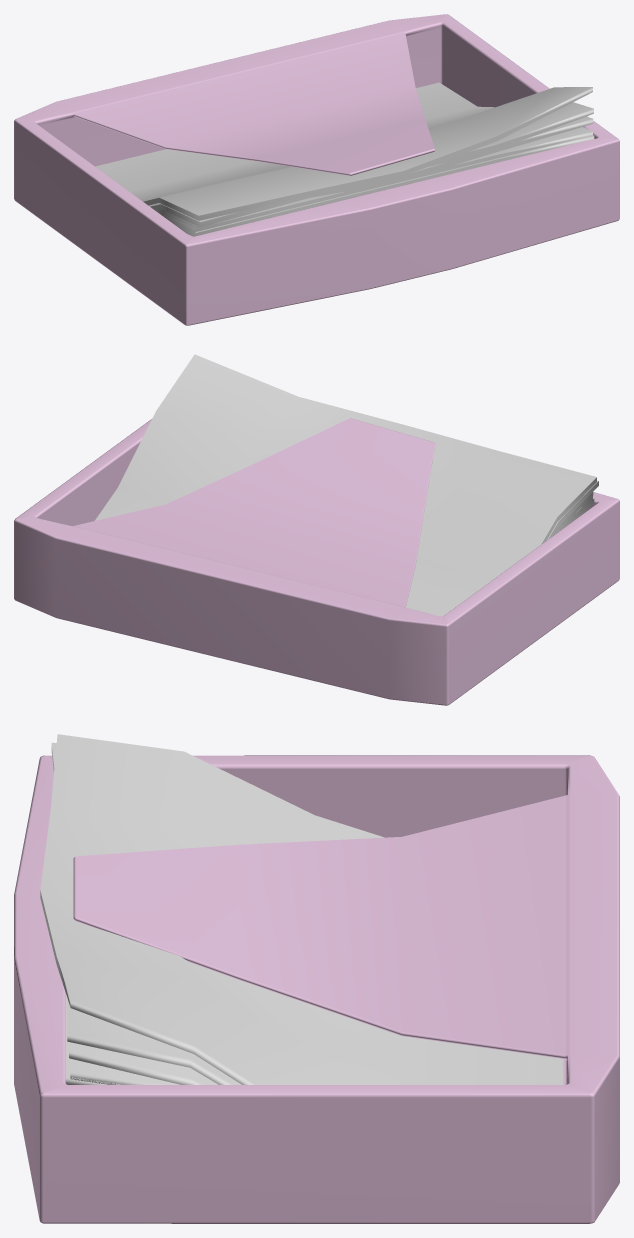
File: Geo_dryerSheets.fbx
The picture shows the model from 3 angles, top to bottom: view 1: azimuth 30°, elevation 25°; view 2: azimuth 150°, elevation 25°; view 3: azimuth 270°, elevation 25°; orthographic projection. The views are drawn at different scales.
Visible parts, largest first — view 1: basketLaundry_high:dryerSheetBox, basketLaundry_high:dyrerSheets; view 2: basketLaundry_high:dryerSheetBox, basketLaundry_high:dyrerSheets; view 3: basketLaundry_high:dryerSheetBox, basketLaundry_high:dyrerSheets.
Boxes of the visible parts, x1,y1,x2,y2 form: basketLaundry_high:dryerSheetBox: [14, 14, 619, 325]; basketLaundry_high:dyrerSheets: [95, 82, 594, 236]; basketLaundry_high:dryerSheetBox: [14, 418, 619, 705]; basketLaundry_high:dyrerSheets: [95, 354, 598, 616]; basketLaundry_high:dryerSheetBox: [14, 755, 619, 1223]; basketLaundry_high:dyrerSheets: [40, 734, 563, 1084].
Bounding box in the file's own units: 6.14 × 1.77 × 4.62.
